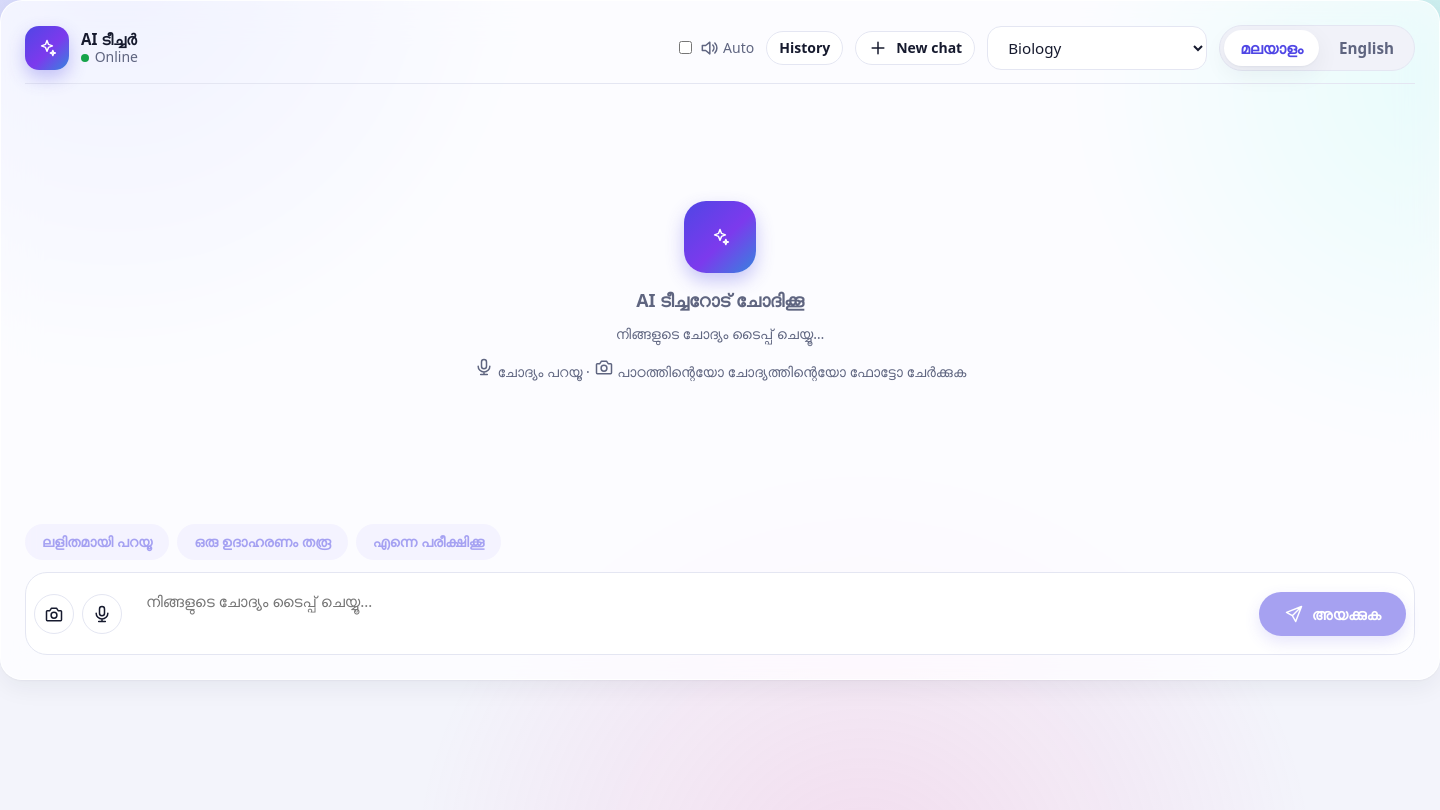
it: AI Teacher › sends mode as a name (the bug found on the live site) and shows the reply with an honest label
Type "Photosynthesis എന്താണ്?" into the text box labelled "നിങ്ങളുടെ ചോദ്യം ടൈപ്പ് ചെയ്യൂ…" at coordinates (690, 614), box x1=130 y1=581 x2=1251 y2=646
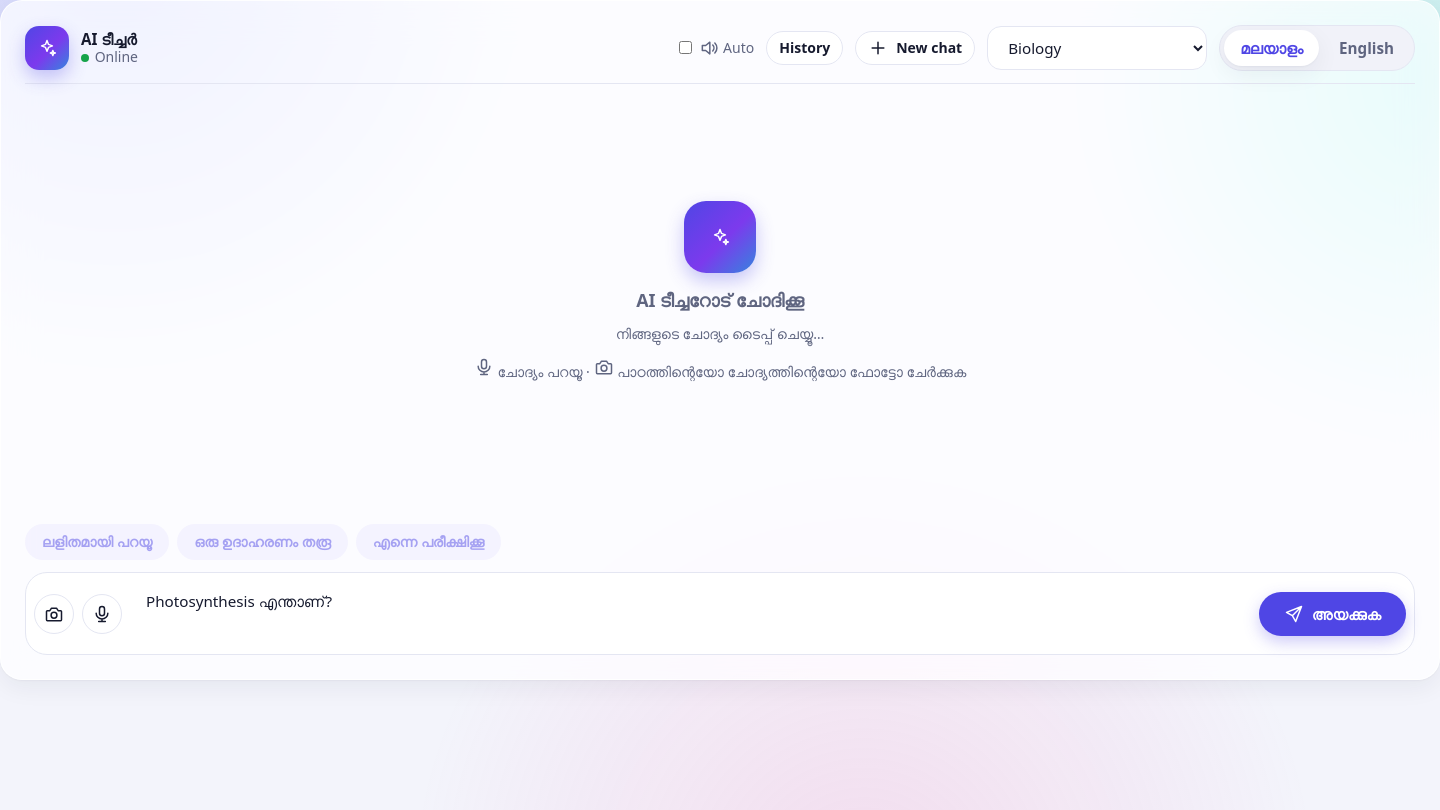
Click the button "അയക്കുക" at coordinates (1332, 614), box x1=1259 y1=592 x2=1406 y2=636
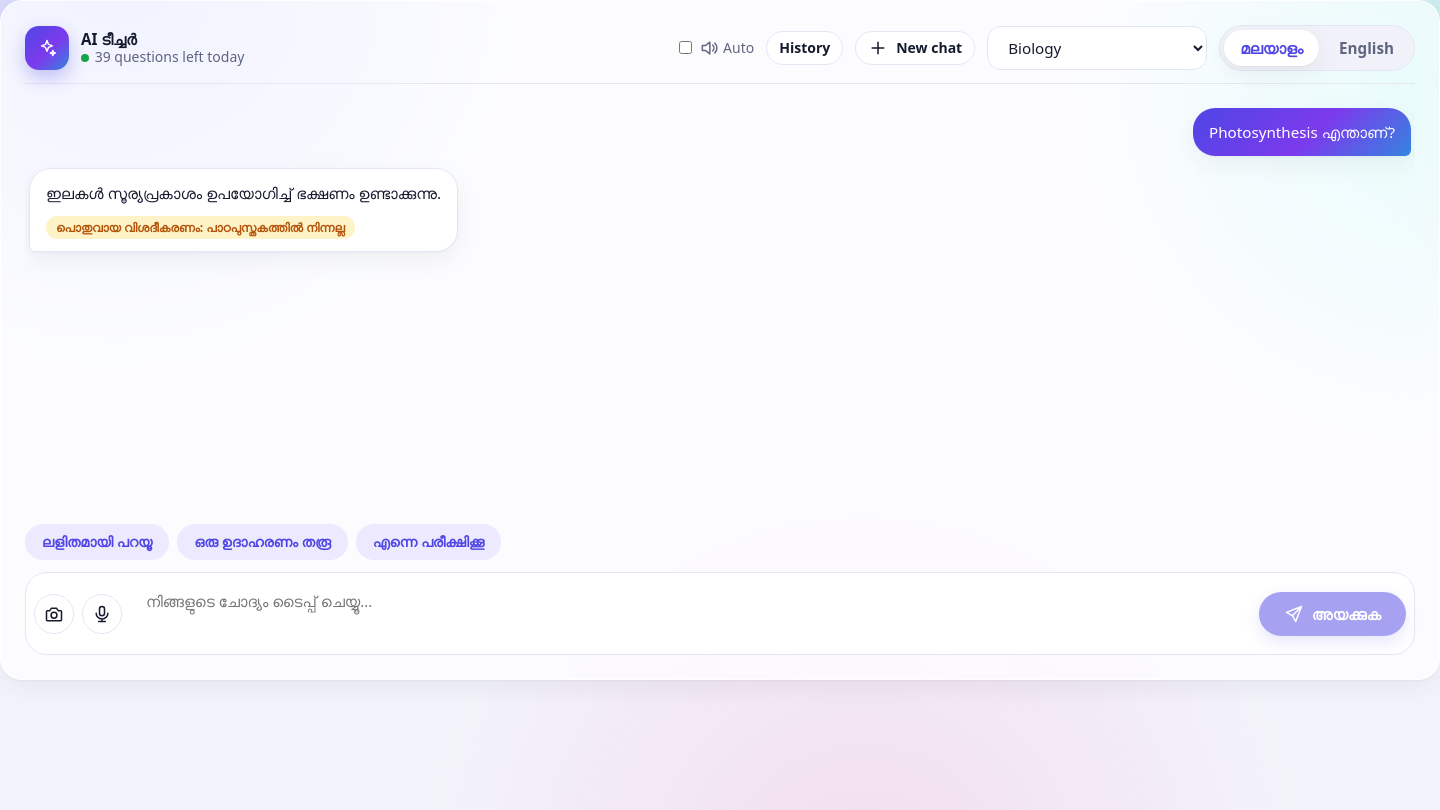
Result: the text "ഇലകൾ സൂര്യപ്രകാശം ഉപയോഗിച്ച് ഭക്ഷണം ഉണ്ടാക്കുന്നു." is shown at x1=46 y1=181 x2=441 y2=206
Result: the text "പൊതുവായ വിശദീകരണം: പാഠപുസ്തകത്തിൽ നിന്നല്ല" is shown at x1=46 y1=216 x2=355 y2=239
Result: the text "39 questions left today" is shown at x1=81 y1=49 x2=244 y2=66
